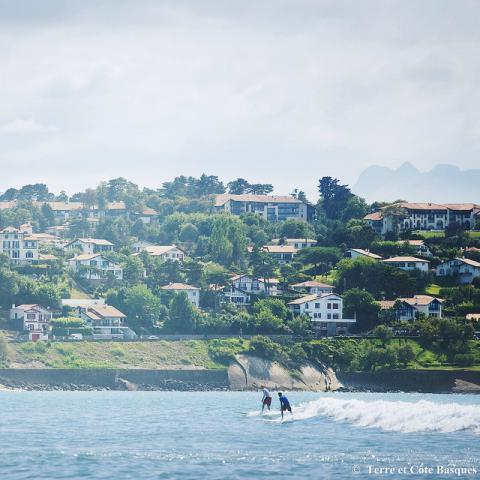car: (343, 331, 353, 335), (147, 337, 159, 339)
